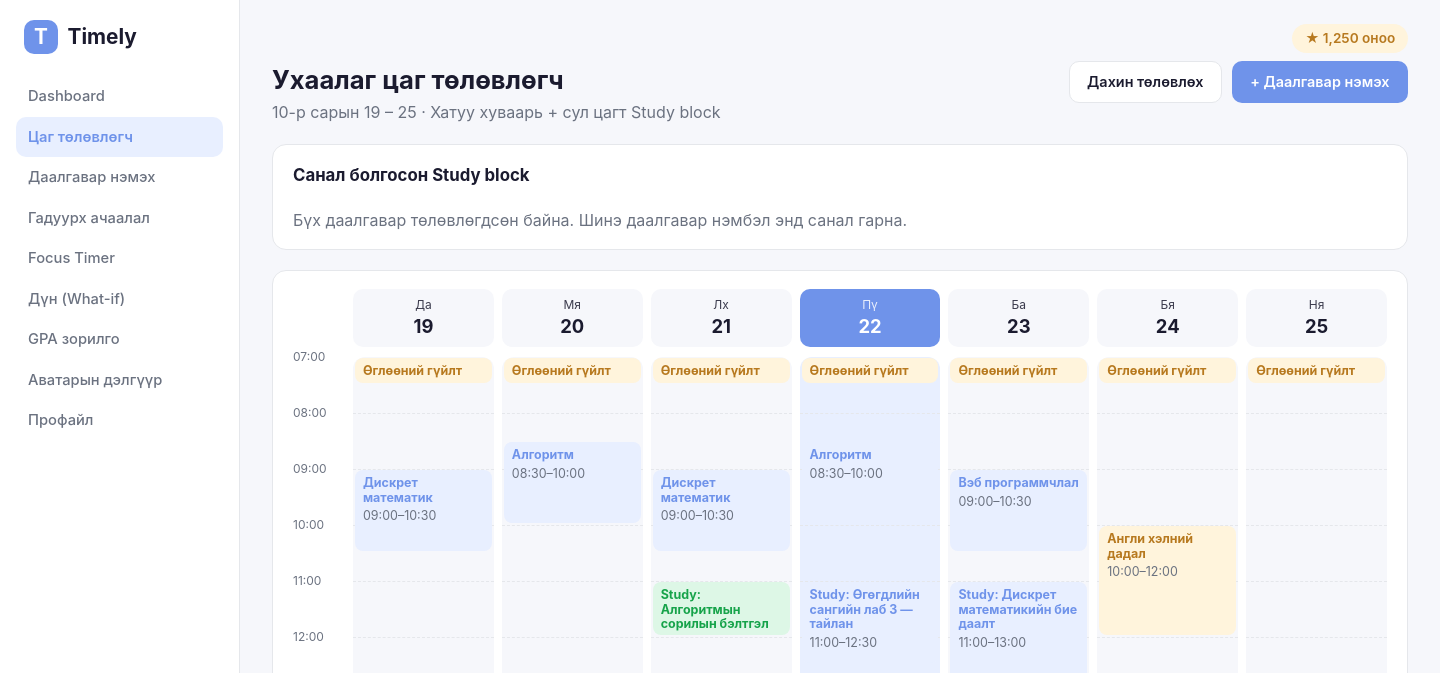
TML-PLAN — Planner › [Дахин төлөвлөх] сул цагийг дахин тооцоолж мэдэгдэнэ
Click the button with test id "replan". click: (1145, 82)
box: [1068,61,1222,103]
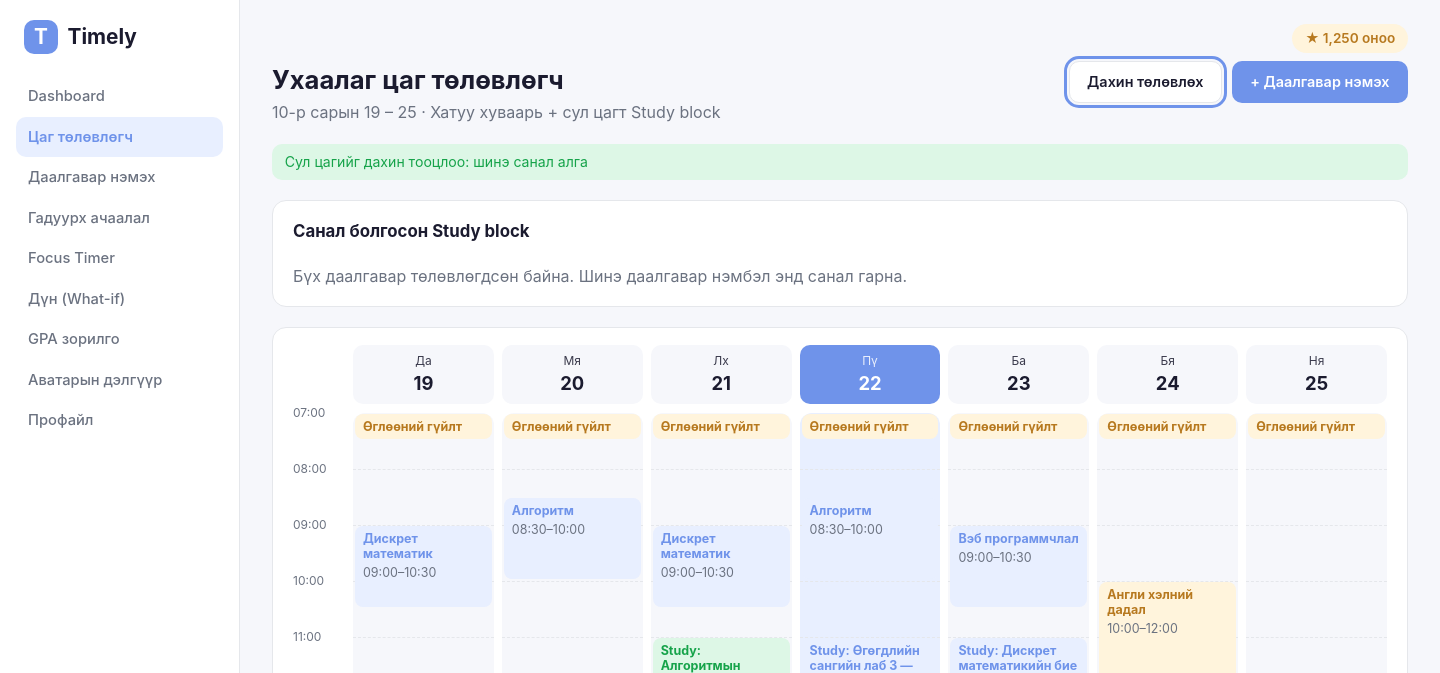
Check: the message with test id "planner-msg" reads "Сул цагийг дахин тооцлоо: шинэ санал алга", box [285,153,588,170]
